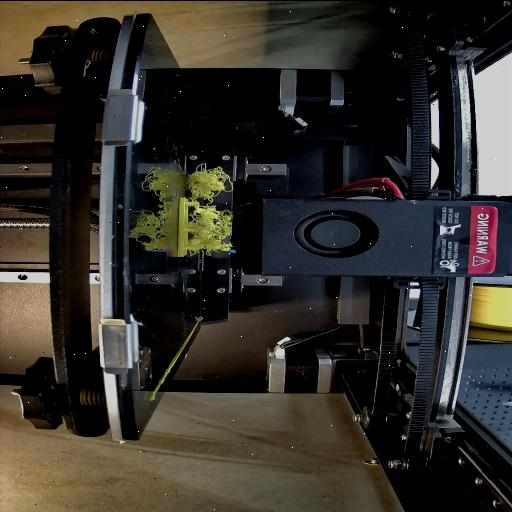spaghetti: (190, 166, 234, 254)
